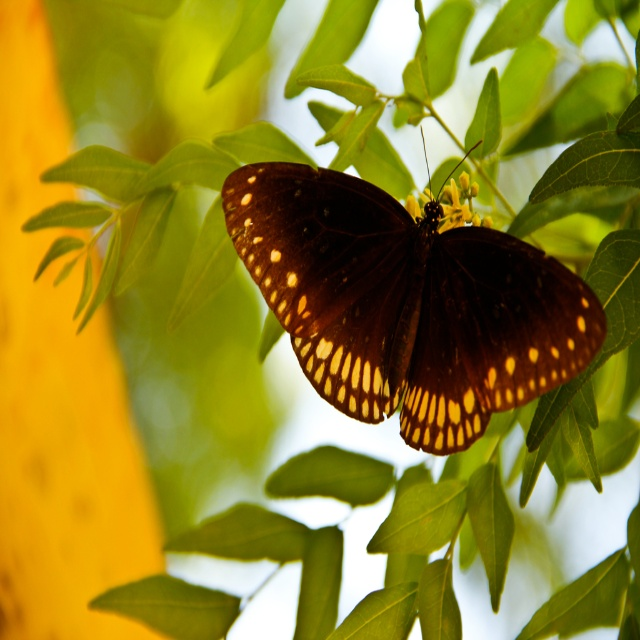Butterfly: (206, 101, 619, 456)
